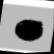correct: (8, 12, 48, 45)
